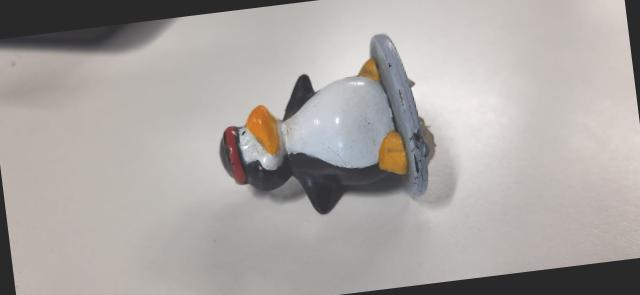Penguin: (198, 20, 452, 231)
